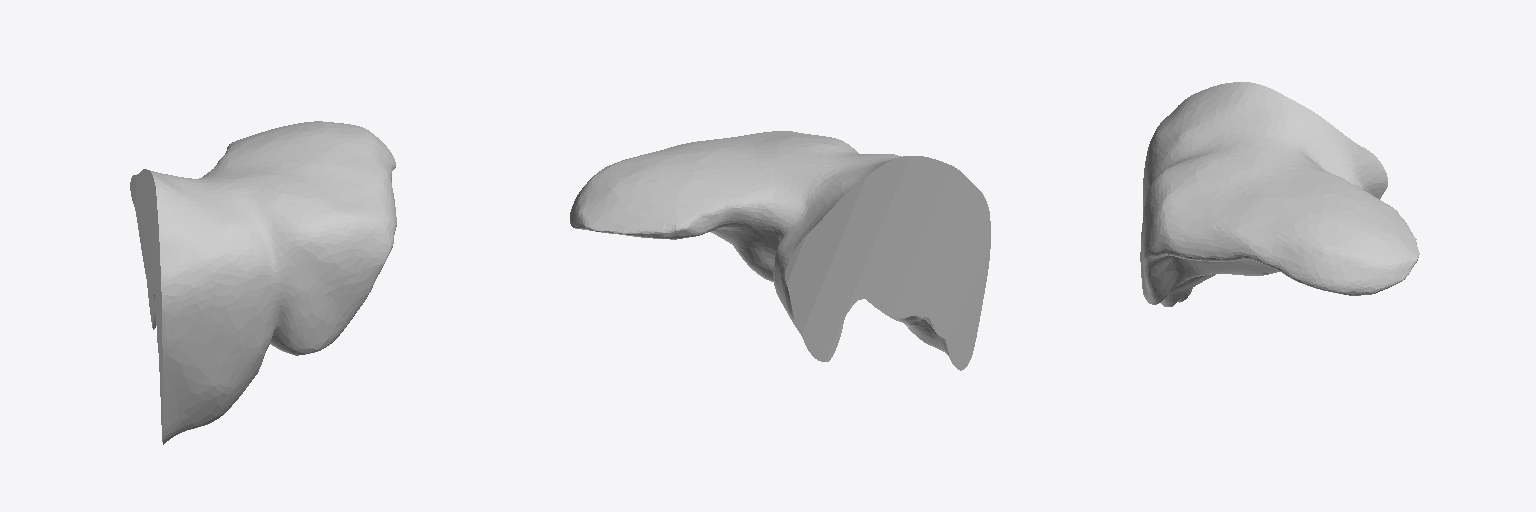
The picture shows the model from 3 angles: view 1: azimuth 30°, elevation 25°; view 2: azimuth 150°, elevation 25°; view 3: azimuth 270°, elevation 25°; orthographic projection.
Parts seen in each view (by area): view 1: Polygonal_Model_8_Triangles_0; view 2: Polygonal_Model_8_Triangles_0; view 3: Polygonal_Model_8_Triangles_0.
Part boxes in pixels (x1,y1,x2,y2): Polygonal_Model_8_Triangles_0: (130,121,396,444); Polygonal_Model_8_Triangles_0: (570,131,990,370); Polygonal_Model_8_Triangles_0: (1140,82,1419,306).
Size of the model in its own units: 6.74 by 4.74 by 5.15.